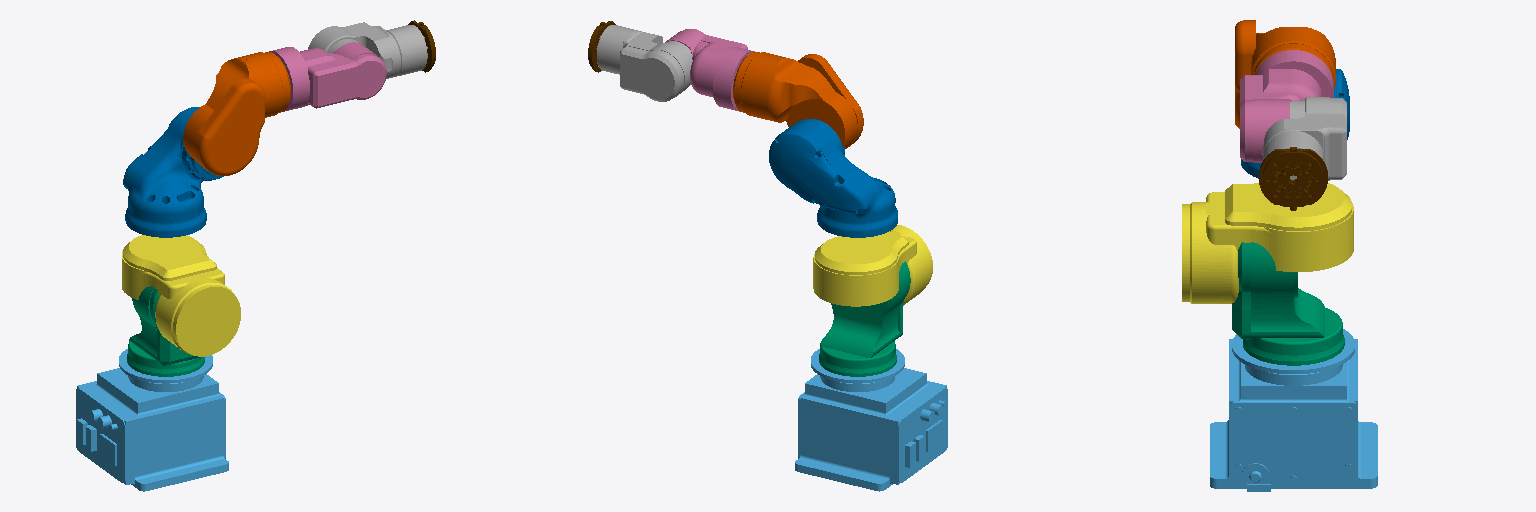
robot.urdf — sia5:
<?xml version="1.0" ?>
<!-- =================================================================================== -->
<!-- |    This document was autogenerated by xacro from sia5.urdf.xacro                | -->
<!-- |    EDITING THIS FILE BY HAND IS NOT RECOMMENDED                                 | -->
<!-- =================================================================================== -->
<robot name="sia5" xmlns:xacro="http://ros.org/wiki/xacro">
  <material name="black">
    <color rgba="0.0 0.0 0.0 1.0"/>
  </material>
  <material name="blue">
    <color rgba="0.0 0.0 0.8 1.0"/>
  </material>
  <material name="green">
    <color rgba="0.0 0.8 0.0 1.0"/>
  </material>
  <material name="grey">
    <color rgba="0.2 0.2 0.2 1.0"/>
  </material>
  <material name="orange">
    <color rgba="1.0 0.423529411765 0.0392156862745 1.0"/>
  </material>
  <material name="brown">
    <color rgba="0.870588235294 0.811764705882 0.764705882353 1.0"/>
  </material>
  <material name="red">
    <color rgba="0.8 0.0 0.0 1.0"/>
  </material>
  <material name="white">
    <color rgba="1.0 1.0 1.0 1.0"/>
  </material>
  <!-- about mass rate -->
  <!-- gazebo -->
  <gazebo>
    <plugin filename="libgazebo_ros_control.so" name="gazebo_ros_control">
      <robotNamespace>/sia5</robotNamespace>
      <!-- <robotSimType>gazebo_ros_control/DefaultRobotHWSim</robotSimType> -->
    </plugin>
  </gazebo>
  <gazebo reference="base_link">
    <mu1>0.2</mu1>
    <mu2>0.2</mu2>
    <selfCollide>true</selfCollide>
  </gazebo>
  <gazebo reference="link_s">
    <mu1>0.2</mu1>
    <mu2>0.2</mu2>
    <selfCollide>true</selfCollide>
  </gazebo>
  <gazebo reference="link_l">
    <mu1>0.2</mu1>
    <mu2>0.2</mu2>
    <selfCollide>true</selfCollide>
  </gazebo>
  <gazebo reference="link_e">
    <mu1>0.2</mu1>
    <mu2>0.2</mu2>
    <selfCollide>true</selfCollide>
  </gazebo>
  <gazebo reference="link_u">
    <mu1>0.2</mu1>
    <mu2>0.2</mu2>
    <selfCollide>true</selfCollide>
  </gazebo>
  <gazebo reference="link_r">
    <mu1>0.2</mu1>
    <mu2>0.2</mu2>
    <selfCollide>true</selfCollide>
  </gazebo>
  <gazebo reference="link_b">
    <mu1>0.2</mu1>
    <mu2>0.2</mu2>
    <selfCollide>true</selfCollide>
  </gazebo>
  <gazebo reference="link_t">
    <mu1>0.2</mu1>
    <mu2>0.2</mu2>
    <selfCollide>true</selfCollide>
  </gazebo>
  <!-- link -->
  <link name="world"/>
  <link name="base_link">
    <visual>
      <geometry>
        <mesh filename="package://motoman_description/meshes/sia5/visual/COLLADA/base_link.dae"/>
      </geometry>
    </visual>
    <collision>
      <geometry>
        <mesh filename="package://motoman_description/meshes/sia5/collision/STL/base_link.stl"/>
      </geometry>
    </collision>
    <inertial>
      <mass value="20.1477501679"/>
      <inertia ixx="1.0" ixy="0.0" ixz="0.0" iyy="1.0" iyz="0.0" izz="1.0"/>
    </inertial>
  </link>
  <link name="link_s">
    <visual>
      <geometry>
        <mesh filename="package://motoman_description/meshes/sia5/visual/COLLADA/link_s.dae"/>
      </geometry>
    </visual>
    <collision>
      <geometry>
        <mesh filename="package://motoman_description/meshes/sia5/collision/STL/link_s.stl"/>
      </geometry>
    </collision>
    <inertial>
      <mass value="4.8354600403"/>
      <inertia ixx="1.0" ixy="0.0" ixz="0.0" iyy="1.0" iyz="0.0" izz="1.0"/>
    </inertial>
  </link>
  <link name="link_l">
    <visual>
      <geometry>
        <mesh filename="package://motoman_description/meshes/sia5/visual/COLLADA/link_l.dae"/>
      </geometry>
    </visual>
    <collision>
      <geometry>
        <mesh filename="package://motoman_description/meshes/sia5/collision/STL/link_l.stl"/>
      </geometry>
    </collision>
    <inertial>
      <mass value="4.02955003358"/>
      <inertia ixx="1.0" ixy="0.0" ixz="0.0" iyy="1.0" iyz="0.0" izz="1.0"/>
    </inertial>
  </link>
  <link name="link_e">
    <visual>
      <geometry>
        <mesh filename="package://motoman_description/meshes/sia5/visual/COLLADA/link_e.dae"/>
      </geometry>
    </visual>
    <collision>
      <geometry>
        <mesh filename="package://motoman_description/meshes/sia5/collision/STL/link_e.stl"/>
      </geometry>
    </collision>
    <inertial>
      <mass value="0.604432505037"/>
      <inertia ixx="1.0" ixy="0.0" ixz="0.0" iyy="1.0" iyz="0.0" izz="1.0"/>
    </inertial>
  </link>
  <link name="link_u">
    <visual>
      <geometry>
        <mesh filename="package://motoman_description/meshes/sia5/visual/COLLADA/link_u.dae"/>
      </geometry>
    </visual>
    <collision>
      <geometry>
        <mesh filename="package://motoman_description/meshes/sia5/collision/STL/link_u.stl"/>
      </geometry>
    </collision>
    <inertial>
      <mass value="0.201477501679"/>
      <inertia ixx="1.0" ixy="0.0" ixz="0.0" iyy="1.0" iyz="0.0" izz="1.0"/>
    </inertial>
  </link>
  <link name="link_r">
    <visual>
      <geometry>
        <mesh filename="package://motoman_description/meshes/sia5/visual/COLLADA/link_r.dae"/>
      </geometry>
    </visual>
    <collision>
      <geometry>
        <mesh filename="package://motoman_description/meshes/sia5/collision/STL/link_r.stl"/>
      </geometry>
    </collision>
    <inertial>
      <mass value="0.0805910006716"/>
      <inertia ixx="1.0" ixy="0.0" ixz="0.0" iyy="1.0" iyz="0.0" izz="1.0"/>
    </inertial>
  </link>
  <link name="link_b">
    <visual>
      <geometry>
        <mesh filename="package://motoman_description/meshes/sia5/visual/COLLADA/link_b.dae"/>
      </geometry>
    </visual>
    <collision>
      <geometry>
        <mesh filename="package://motoman_description/meshes/sia5/collision/STL/link_b.stl"/>
      </geometry>
    </collision>
    <inertial>
      <mass value="0.0805910006716"/>
      <inertia ixx="1.0" ixy="0.0" ixz="0.0" iyy="1.0" iyz="0.0" izz="1.0"/>
    </inertial>
  </link>
  <link name="link_t">
    <visual>
      <geometry>
        <mesh filename="package://motoman_description/meshes/sia5/visual/COLLADA/link_t.dae"/>
      </geometry>
    </visual>
    <collision>
      <geometry>
        <mesh filename="package://motoman_description/meshes/sia5/collision/STL/link_t.stl"/>
      </geometry>
    </collision>
    <inertial>
      <mass value="0.0201477501679"/>
      <inertia ixx="1.0" ixy="0.0" ixz="0.0" iyy="1.0" iyz="0.0" izz="1.0"/>
    </inertial>
  </link>
  <link name="tool0"/>
  <!-- joint -->
  <joint name="world" type="fixed">
    <parent link="world"/>
    <child link="base_link"/>
  </joint>
  <joint name="joint_s" type="revolute">
    <origin rpy="0 0 0" xyz="0 0 0.1765"/>
    <parent link="base_link"/>
    <child link="link_s"/>
    <axis xyz="0 0 1"/>
    <dynamics damping="0.7" friction="0.7"/>
    <limit effort="30.0" lower="-3.14159256547" upper="3.14159256547" velocity="3.4906586"/>
  </joint>
  <joint name="joint_l" type="revolute">
    <origin rpy="0 0 0" xyz="0 0.006 0.136"/>
    <parent link="link_s"/>
    <child link="link_l"/>
    <axis xyz="0 1 0"/>
    <dynamics damping="0.7" friction="0.7"/>
    <limit effort="30.0" lower="-1.91986223" upper="1.91986223" velocity="3.4906586"/>
  </joint>
  <joint name="joint_e" type="revolute">
    <origin rpy="0 0 0" xyz="0 -0.006 0.15"/>
    <parent link="link_l"/>
    <child link="link_e"/>
    <axis xyz="0 0 1"/>
    <dynamics damping="0.7" friction="0.7"/>
    <limit effort="30.0" lower="-2.96705981" upper="2.96705981" velocity="3.4906586"/>
  </joint>
  <joint name="joint_u" type="revolute">
    <origin rpy="1.57079637 0 0" xyz="0.085 -0.00826931 0.12275299"/>
    <parent link="link_e"/>
    <child link="link_u"/>
    <axis xyz="0 0 1"/>
    <dynamics damping="0.7" friction="0.7"/>
    <limit effort="30.0" lower="-1.57079637" upper="2.007128695" velocity="3.4906586"/>
  </joint>
  <joint name="joint_r" type="revolute">
    <origin rpy="0 1.57079637 0" xyz="0.131 0.06 -0.008"/>
    <parent link="link_u"/>
    <child link="link_r"/>
    <axis xyz="0 0 -1"/>
    <dynamics damping="0.7" friction="0.7"/>
    <limit effort="14.7" lower="-3.14159256547" upper="3.14159256547" velocity="3.4906586"/>
  </joint>
  <joint name="joint_b" type="revolute">
    <origin rpy="0 -1.57079637 0" xyz="-0.0045 0 0.139"/>
    <parent link="link_r"/>
    <child link="link_b"/>
    <axis xyz="0 0 1"/>
    <dynamics damping="0.7" friction="0.7"/>
    <limit effort="14.7" lower="-1.91986223" upper="1.91986223" velocity="4.01425739"/>
  </joint>
  <joint name="joint_t" type="revolute">
    <origin rpy="-1.57079637 0 0" xyz="0.1365 0 -0.0045"/>
    <parent link="link_b"/>
    <child link="link_t"/>
    <axis xyz="-1 0 0"/>
    <dynamics damping="0.7" friction="0.7"/>
    <limit effort="7.35" lower="-3.14159256547" upper="3.14159256547" velocity="6.10865255"/>
  </joint>
  <joint name="joint_tool0" type="fixed">
    <origin rpy="0 0 0" xyz="0.0115 0 -0.040"/>
    <parent link="link_t"/>
    <child link="tool0"/>
  </joint>
  <!-- transmission -->
  <transmission name="transmission_s">
    <type>transmission_interface/SimpleTransmission</type>
    <joint name="joint_s">
      <hardwareInterface>EffortJointInterface</hardwareInterface>
    </joint>
    <actuator name="motor_s">
      <hardwareInterface>EffortJointInterface</hardwareInterface>
      <mechanicalReduction>1</mechanicalReduction>
    </actuator>
  </transmission>
  <transmission name="transmission_l">
    <type>transmission_interface/SimpleTransmission</type>
    <joint name="joint_l">
      <hardwareInterface>EffortJointInterface</hardwareInterface>
    </joint>
    <actuator name="motor_l">
      <hardwareInterface>EffortJointInterface</hardwareInterface>
      <mechanicalReduction>1</mechanicalReduction>
    </actuator>
  </transmission>
  <transmission name="transmission_e">
    <type>transmission_interface/SimpleTransmission</type>
    <joint name="joint_e">
      <hardwareInterface>EffortJointInterface</hardwareInterface>
    </joint>
    <actuator name="motor_e">
      <hardwareInterface>EffortJointInterface</hardwareInterface>
      <mechanicalReduction>1</mechanicalReduction>
    </actuator>
  </transmission>
  <transmission name="transmission_u">
    <type>transmission_interface/SimpleTransmission</type>
    <joint name="joint_u">
      <hardwareInterface>EffortJointInterface</hardwareInterface>
    </joint>
    <actuator name="motor_u">
      <hardwareInterface>EffortJointInterface</hardwareInterface>
      <mechanicalReduction>1</mechanicalReduction>
    </actuator>
  </transmission>
  <transmission name="transmission_r">
    <type>transmission_interface/SimpleTransmission</type>
    <joint name="joint_r">
      <hardwareInterface>EffortJointInterface</hardwareInterface>
    </joint>
    <actuator name="motor_r">
      <hardwareInterface>EffortJointInterface</hardwareInterface>
      <mechanicalReduction>1</mechanicalReduction>
    </actuator>
  </transmission>
  <transmission name="transmission_b">
    <type>transmission_interface/SimpleTransmission</type>
    <joint name="joint_b">
      <hardwareInterface>EffortJointInterface</hardwareInterface>
    </joint>
    <actuator name="motor_b">
      <hardwareInterface>EffortJointInterface</hardwareInterface>
      <mechanicalReduction>1</mechanicalReduction>
    </actuator>
  </transmission>
  <transmission name="transmission_t">
    <type>transmission_interface/SimpleTransmission</type>
    <joint name="joint_t">
      <hardwareInterface>EffortJointInterface</hardwareInterface>
    </joint>
    <actuator name="motor_t">
      <hardwareInterface>EffortJointInterface</hardwareInterface>
      <mechanicalReduction>1</mechanicalReduction>
    </actuator>
  </transmission>
</robot>

--- Facts derived from the render (not from the file) ---
3 views of the same robot in one strip: view 1: azimuth 30°, elevation 25°; view 2: azimuth 150°, elevation 25°; view 3: azimuth 270°, elevation 25° (orthographic).
Robot: sia5 — 10 links, 9 joints (7 revolute, 2 fixed); root link world; default pose: all joints at 0.
Visible links, largest first — view 1: base_link, link_l, link_u, link_e, link_r, link_b, link_s; view 2: base_link, link_e, link_u, link_l, link_s, link_b, link_r; view 3: base_link, link_l, link_s, link_r, link_b, link_u, link_t, link_e.
Link boxes in pixels (x1=…): base_link: x1=76, y1=349, x2=228, y2=491; link_l: x1=122, y1=235, x2=240, y2=356; link_u: x1=183, y1=52, x2=290, y2=175; link_e: x1=123, y1=107, x2=223, y2=237; link_r: x1=269, y1=42, x2=386, y2=111; link_b: x1=308, y1=22, x2=427, y2=78; link_s: x1=127, y1=286, x2=204, y2=376; base_link: x1=795, y1=349, x2=947, y2=491; link_e: x1=769, y1=119, x2=897, y2=237; link_u: x1=733, y1=52, x2=863, y2=148; link_l: x1=813, y1=225, x2=932, y2=306; link_s: x1=819, y1=261, x2=910, y2=376; link_b: x1=596, y1=25, x2=692, y2=101; link_r: x1=665, y1=29, x2=754, y2=111; base_link: x1=1210, y1=329, x2=1377, y2=491; link_l: x1=1182, y1=183, x2=1353, y2=303; link_s: x1=1232, y1=242, x2=1344, y2=365; link_r: x1=1240, y1=50, x2=1333, y2=162; link_b: x1=1262, y1=97, x2=1346, y2=180; link_u: x1=1235, y1=20, x2=1335, y2=128; link_t: x1=1259, y1=147, x2=1327, y2=210; link_e: x1=1241, y1=69, x2=1349, y2=178.
Bounding box of the posed robot: 0.6479 × 0.2528 × 0.7003 m (x, y, z).
Meshes: 8 distinct files referenced, 8 mesh visuals loaded (8 Collada DAE).